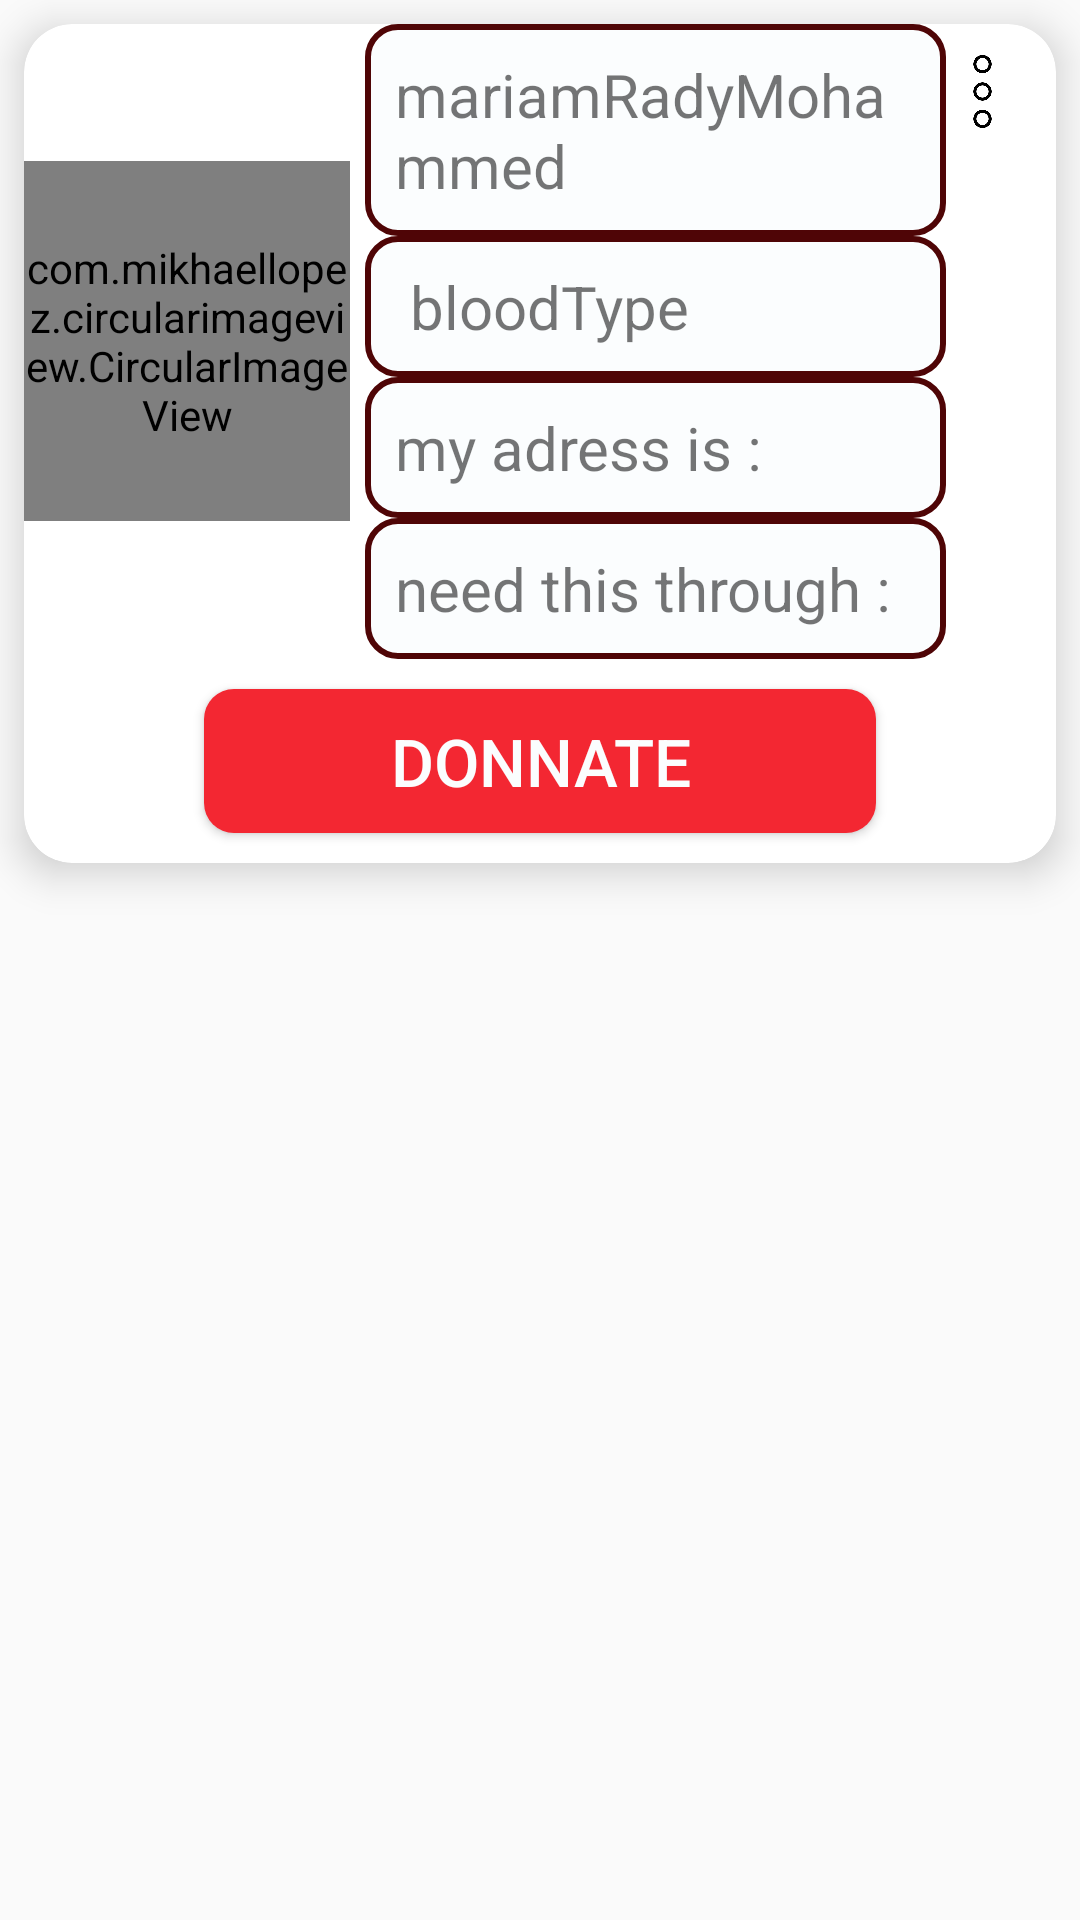

Icons on this 1080 x 1920 Android screen, each with its box as (x1, y1, x2, y2):
postsetting: (973, 55, 992, 128)
